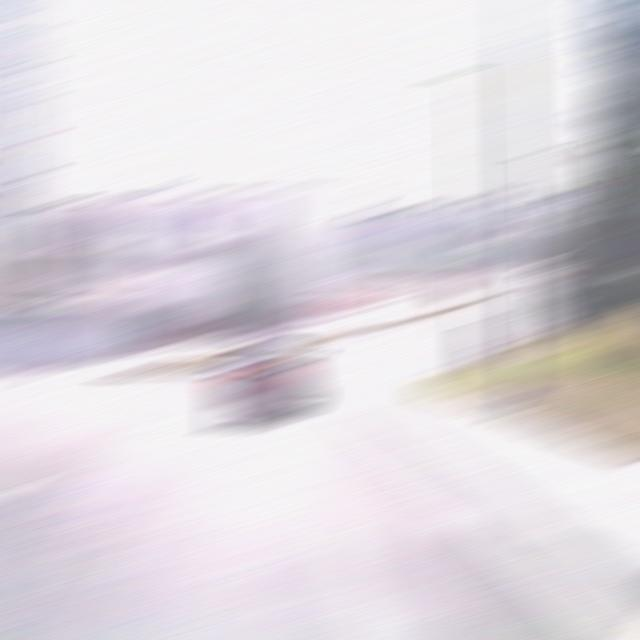stop: (430, 267, 474, 296)
